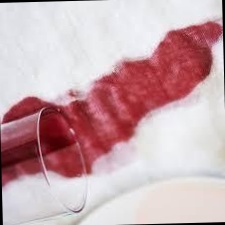wine: (112, 58, 189, 118), (73, 95, 133, 157), (171, 34, 218, 91)
